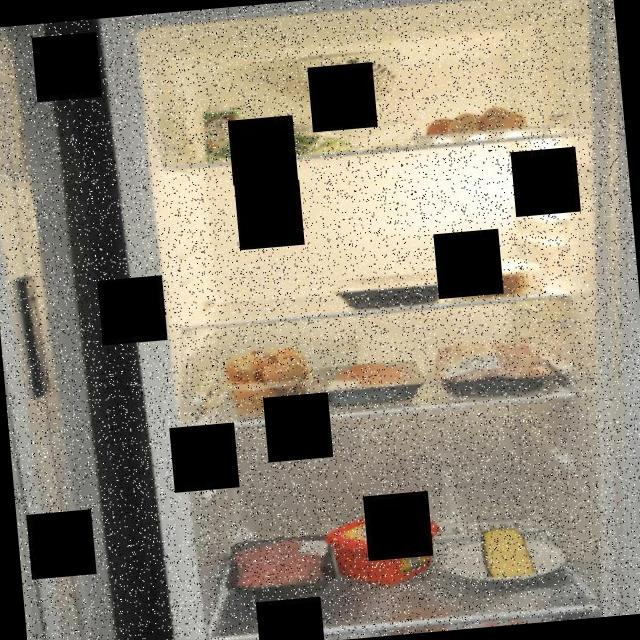Carne pollo: (428, 325, 564, 404), (332, 269, 452, 312)
Carne vacuno: (308, 358, 432, 410)
Cebolla: (224, 342, 314, 416)
Huevos: (420, 103, 528, 144)
Mantequilla: (322, 506, 444, 594)
Queso: (476, 522, 538, 582)
